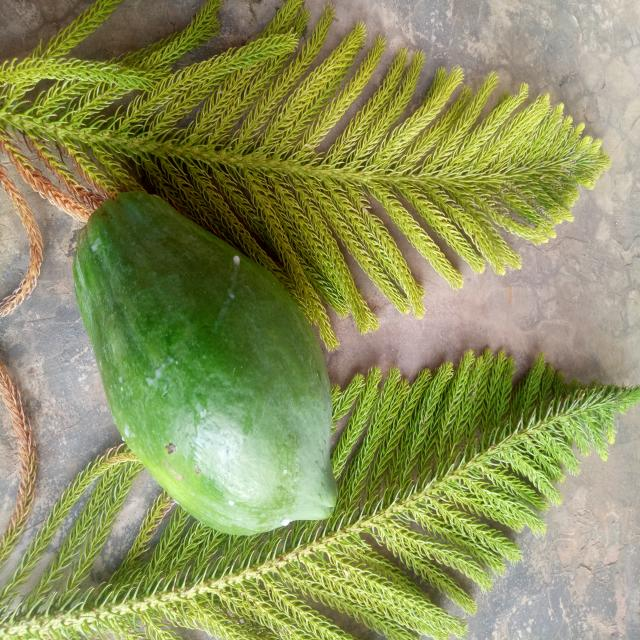Pepaya unrippen: (69, 180, 345, 542)
